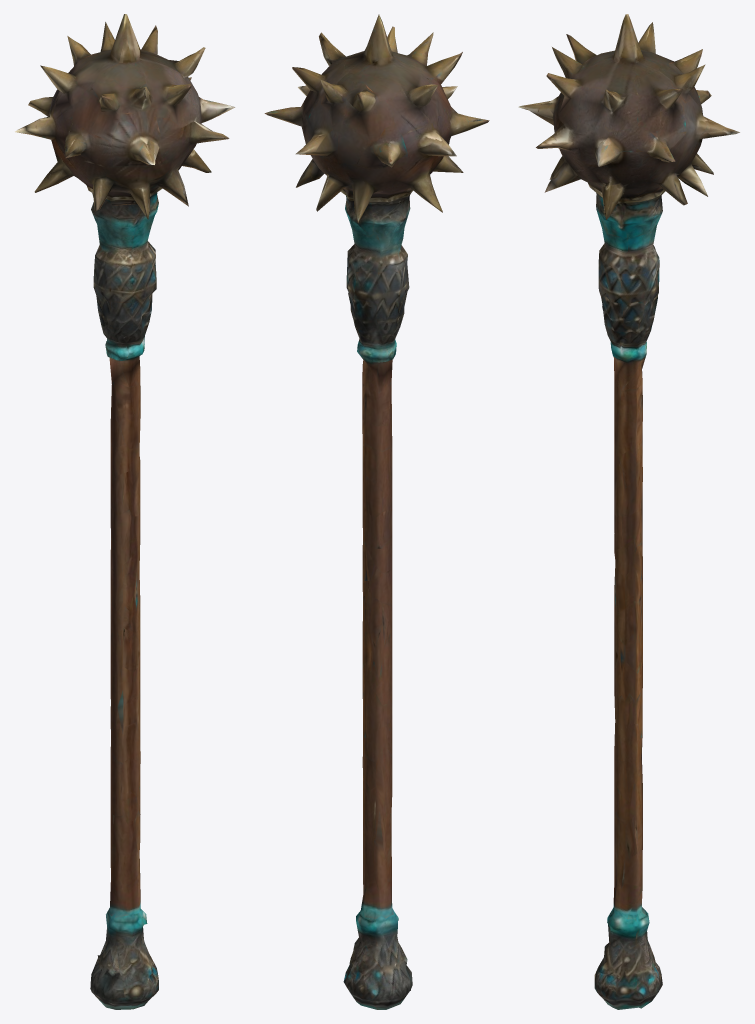
File: 1474_mace.glb
3 views of the same model, side by side, from view 1: azimuth 30°, elevation 25°; view 2: azimuth 150°, elevation 25°; view 3: azimuth 270°, elevation 25° (orthographic).
Visible parts, largest first — view 1: Model; view 2: Model; view 3: Model.
Boxes of the visible parts, x1,y1,x2,y2 form: Model: (15,14,235,1009); Model: (264,14,489,1009); Model: (518,14,739,1009).
Size of the model in its own units: 0.2019 by 1 by 0.2038.
Materials: 1 (1 with a texture image).
